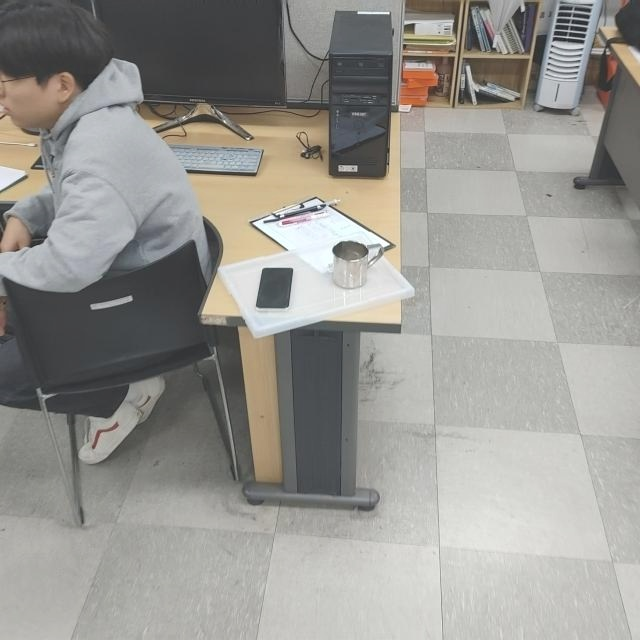cup: (332, 239, 386, 291)
phone: (255, 266, 294, 310)
